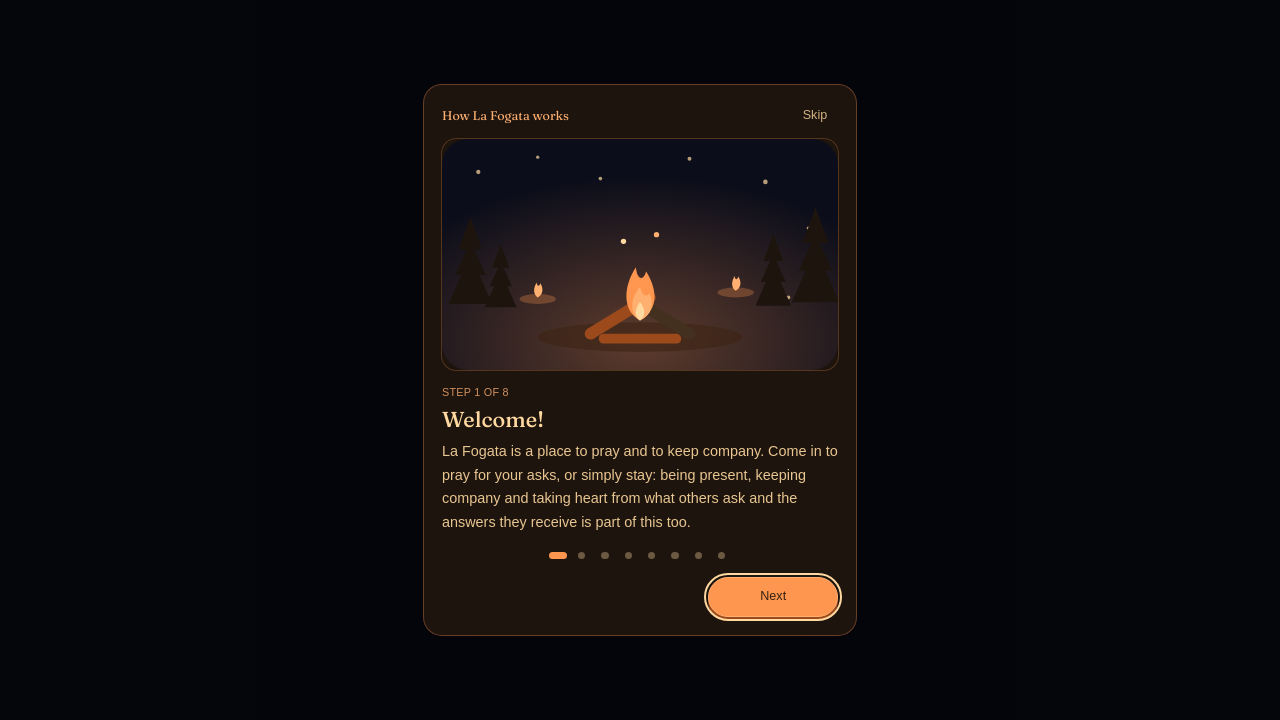
Test: the tutorial, in en › goes forward and back one step at a time, and says where it is
Click the button "Next": click(773, 597) [708,577,838,617]
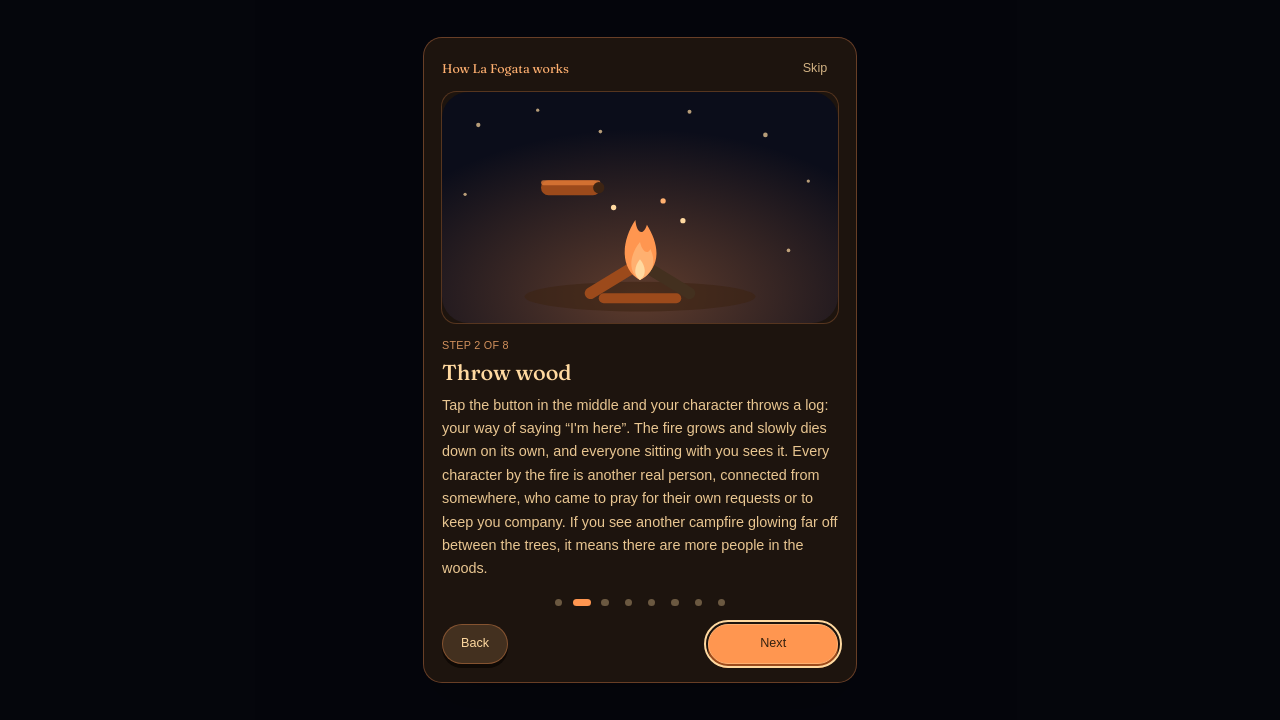
Now the heading "Throw wood" is shown, box [442,359,572,386]
Now the text "Tap the button in the middle and your character throws a log: your way of saying “I'm here”. The fire grows and slowly d" is shown, box [442,396,837,576]
Click the button "Back": click(475, 644) [442,624,508,664]
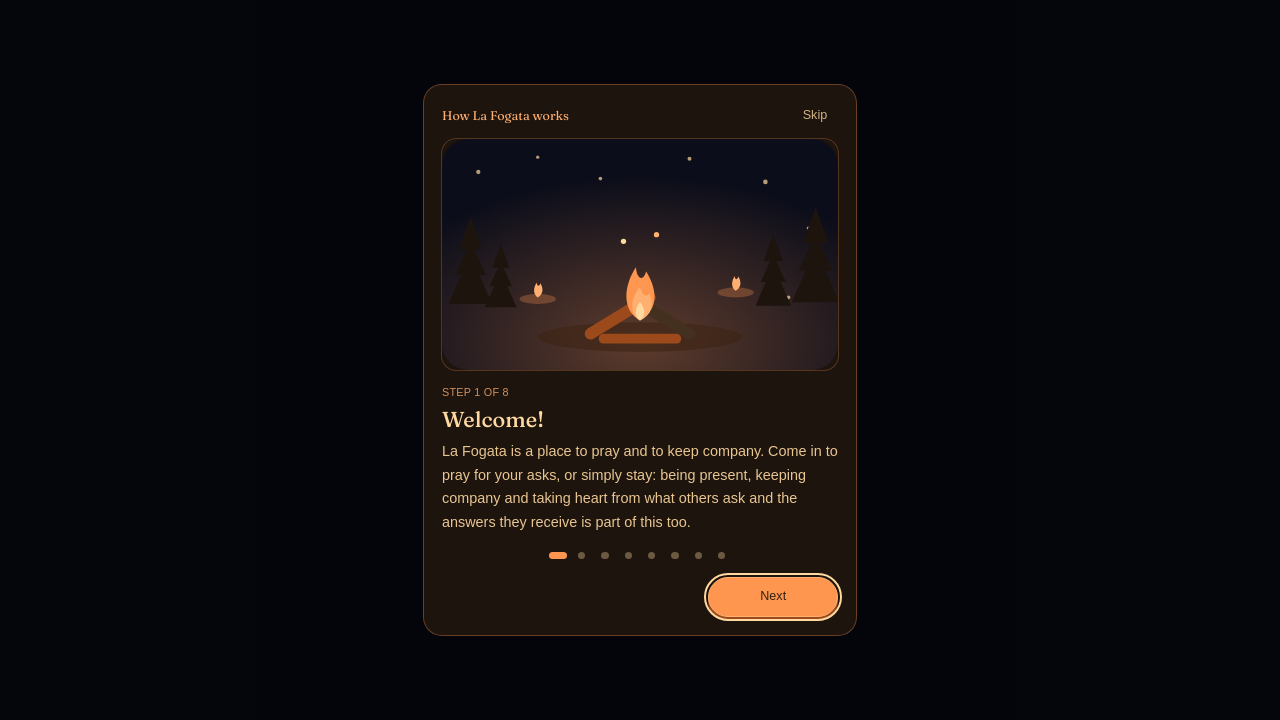
Now the heading "Welcome!" is shown, box [442,406,544,433]
